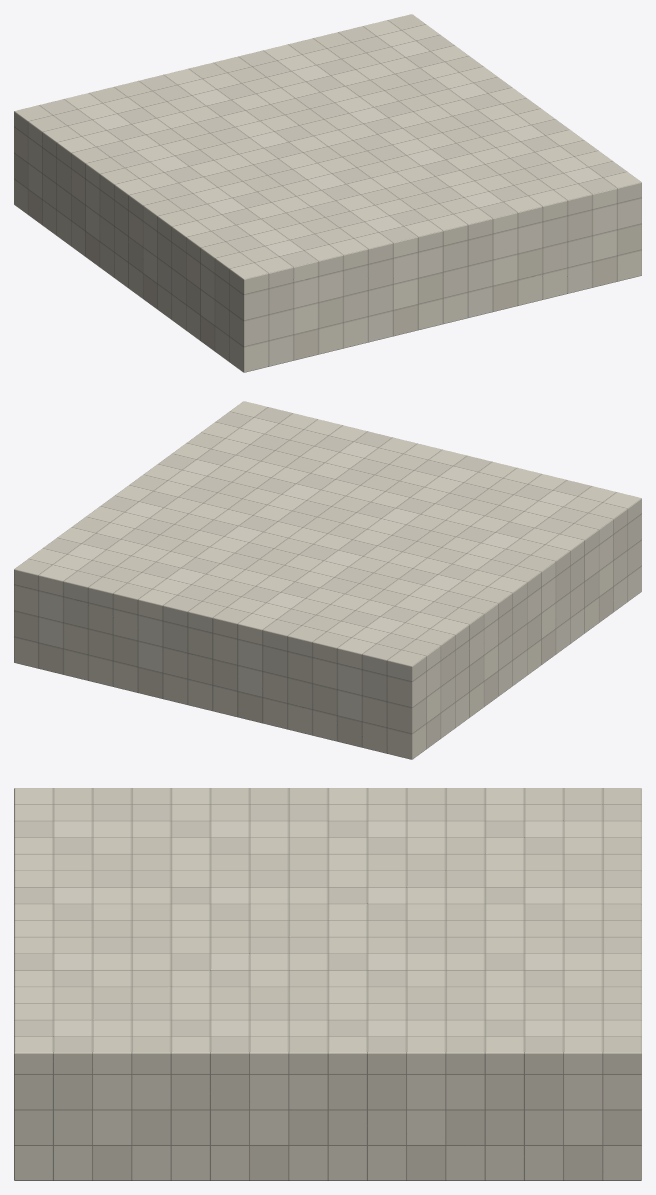
The model's file is MOD_41_Platform_Raised.glb.
3 views of the same model, one above another, from view 1: azimuth 30°, elevation 25°; view 2: azimuth 150°, elevation 25°; view 3: azimuth 270°, elevation 25° (orthographic). The views are drawn at different scales.
Parts seen in each view (by area): view 1: MOD_41_Platform_Raised_Export; view 2: MOD_41_Platform_Raised_Export; view 3: MOD_41_Platform_Raised_Export.
Part boxes in pixels (x1=…): MOD_41_Platform_Raised_Export: x1=14, y1=14, x2=641, y2=372; MOD_41_Platform_Raised_Export: x1=14, y1=401, x2=641, y2=759; MOD_41_Platform_Raised_Export: x1=14, y1=788, x2=641, y2=1180.
Bounding box in the file's own units: 4 × 0.9 × 4.
Materials: 1 (1 with a texture image).
